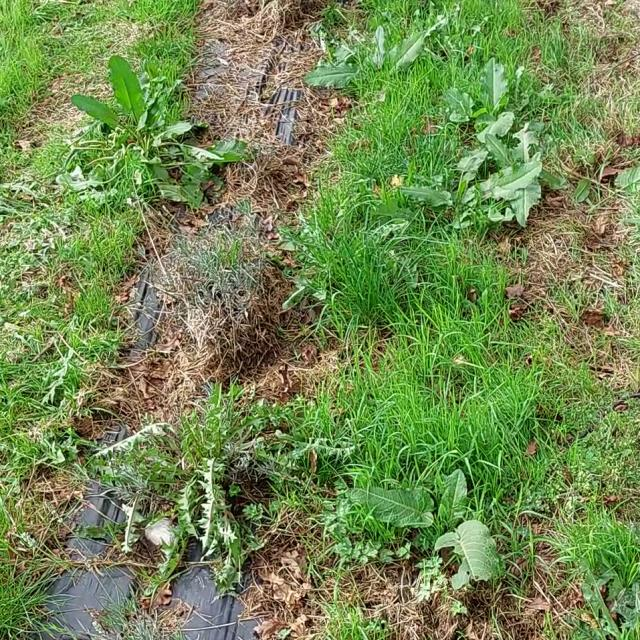organic waste: (50, 47, 264, 210), (347, 437, 530, 592), (391, 134, 575, 248), (290, 0, 463, 104), (430, 64, 563, 159)
